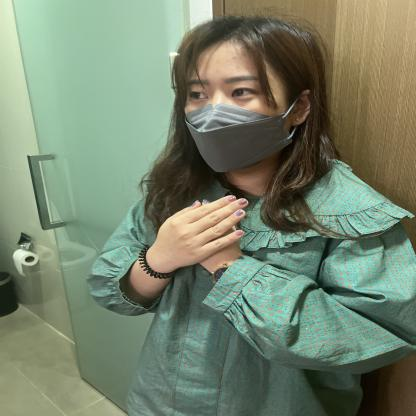Grieve: (68, 174, 353, 348)
